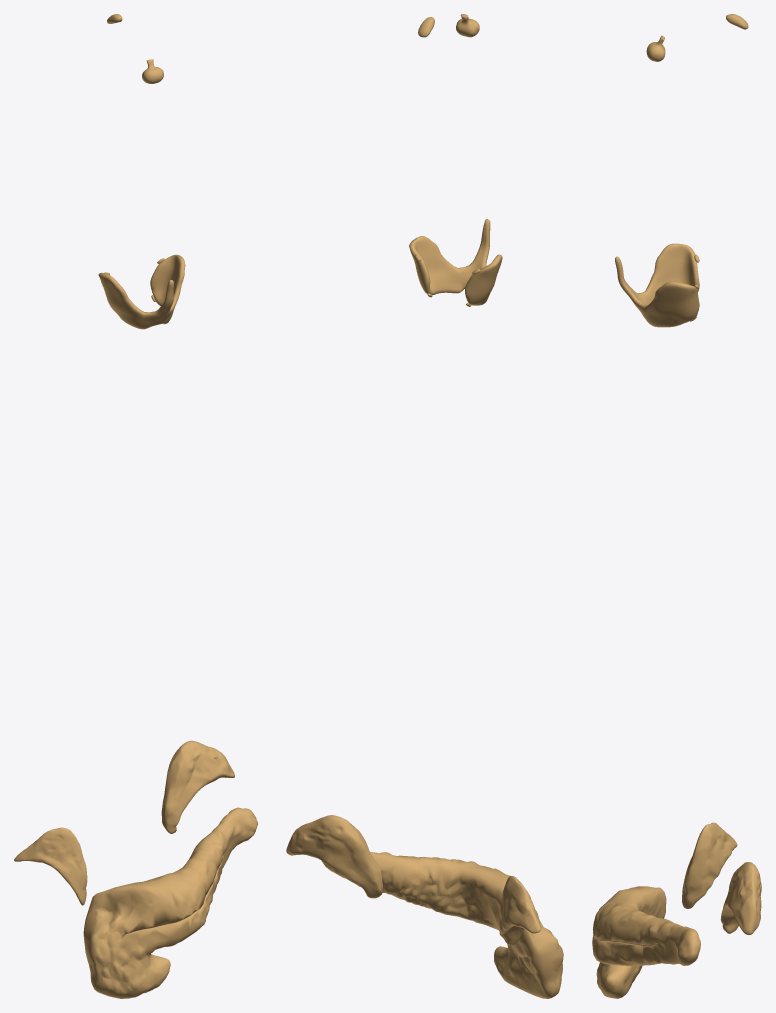
The model's file is male-endocrine.glb.
3 views of the same model, side by side, from view 1: azimuth 30°, elevation 25°; view 2: azimuth 150°, elevation 25°; view 3: azimuth 270°, elevation 25° (orthographic). The views are drawn at different scales.
Visible parts, largest first — view 1: Pancreas, Suprarenal_glandl, Thyroid_gland, Suprarenal_glandr; view 2: Pancreas, Suprarenal_glandl, Thyroid_gland, Suprarenal_glandr; view 3: Pancreas, Thyroid_gland, Suprarenal_glandr, Suprarenal_glandl.
Boxes of the visible parts, x1=… form: Pancreas: x1=83, y1=807, x2=257, y2=998; Suprarenal_glandl: x1=161, y1=740, x2=234, y2=833; Thyroid_gland: x1=98, y1=254, x2=185, y2=329; Suprarenal_glandr: x1=14, y1=827, x2=87, y2=905; Pancreas: x1=321, y1=852, x2=563, y2=998; Suprarenal_glandl: x1=286, y1=815, x2=382, y2=898; Thyroid_gland: x1=409, y1=219, x2=502, y2=305; Suprarenal_glandr: x1=499, y1=876, x2=541, y2=944; Pancreas: x1=592, y1=886, x2=700, y2=998; Thyroid_gland: x1=615, y1=243, x2=699, y2=327; Suprarenal_glandr: x1=682, y1=822, x2=737, y2=908; Suprarenal_glandl: x1=720, y1=862, x2=761, y2=934.
Size of the model in its own units: 0.4414 by 1.73 by 0.2662.
